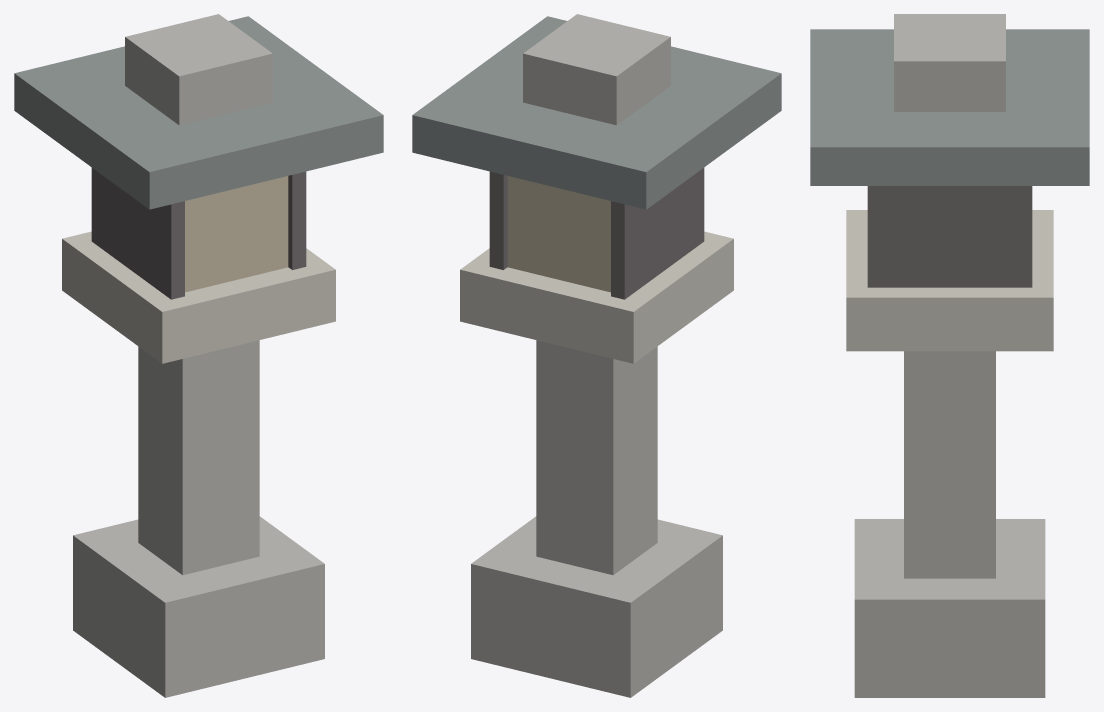
File: stone_garden_lantern.glb
3 renders of one model, left to right at view 1: azimuth 30°, elevation 25°; view 2: azimuth 150°, elevation 25°; view 3: azimuth 270°, elevation 25°, orthographic. The views are drawn at different scales.
Visible parts, largest first — view 1: box_6, box_0, box_1, box_2, box_7, box_3, box_4, box_5; view 2: box_6, box_0, box_1, box_2, box_7, box_3, box_4, box_5; view 3: box_6, box_0, box_1, box_5, box_2, box_7.
Boxes of the visible parts, x1,y1,x2,y2 form: box_6: [14, 16, 383, 209]; box_0: [73, 516, 324, 697]; box_1: [138, 340, 259, 575]; box_2: [62, 231, 335, 363]; box_7: [125, 14, 272, 125]; box_3: [185, 176, 288, 292]; box_4: [91, 167, 184, 299]; box_5: [288, 171, 306, 269]; box_6: [412, 16, 781, 209]; box_0: [471, 516, 722, 697]; box_1: [536, 340, 657, 575]; box_2: [460, 231, 733, 363]; box_7: [523, 14, 670, 125]; box_3: [507, 176, 610, 292]; box_4: [611, 167, 704, 299]; box_5: [489, 171, 507, 269]; box_6: [810, 29, 1089, 185]; box_0: [854, 519, 1045, 697]; box_1: [904, 351, 995, 578]; box_5: [867, 186, 1032, 287]; box_2: [846, 210, 1053, 351]; box_7: [894, 14, 1005, 111].
Bounding box in the file's own units: 0.85 × 2.08 × 0.85.
